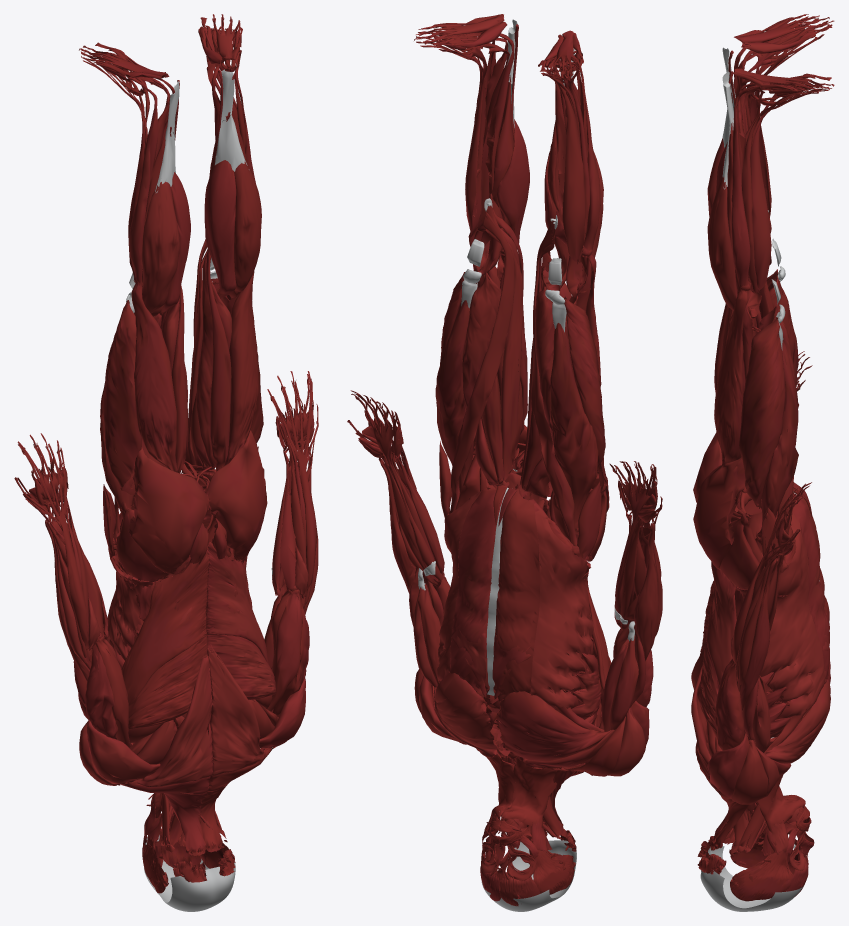
File: muscular.glb
3 views of the same model, side by side, from view 1: azimuth 30°, elevation 25°; view 2: azimuth 150°, elevation 25°; view 3: azimuth 270°, elevation 25° (orthographic). The views are drawn at different scales.
Parts seen in each view (by area): view 1: MOD_latissimus_dorsi_r, FJ1418, MOD_latissimus_dorsi_l, FJ1395, FJ1442, FJ1418M, FJ1520M, FJ1520, FJ1395M, FJ1394, FJ1397M, FJ1436M (+36 smaller); view 2: FJ1452, MOD_rectus_abdominis_r, MOD_rectus_abdominis_l, FJ1433, FJ1464, FJ1434M, FJ1433M, FJ1442, FJ1421M, FJ1464M, FJ1434, FJ1439 (+53 smaller); view 3: FJ1452M, FJ1442M, FJ1395M, FJ1418M, MOD_latissimus_dorsi_l, FJ1433M, FJ1394M, FJ1439M, MOD_temporalis_l, MOD_rectus_abdominis_l, FJ1410M, FJ1464M (+47 smaller).
Boxes of the visible parts, x1=… form: MOD_latissimus_dorsi_r: x1=114, y1=545, x2=211, y2=739; FJ1418: x1=128, y1=447, x2=209, y2=574; MOD_latissimus_dorsi_l: x1=206, y1=541, x2=276, y2=699; FJ1395: x1=131, y1=277, x2=177, y2=472; FJ1442: x1=103, y1=300, x2=141, y2=494; FJ1418M: x1=205, y1=430, x2=267, y2=559; FJ1520M: x1=207, y1=644, x2=268, y2=775; FJ1520: x1=128, y1=655, x2=212, y2=787; FJ1395M: x1=224, y1=271, x2=259, y2=465; FJ1394: x1=141, y1=181, x2=179, y2=313; FJ1397M: x1=204, y1=160, x2=236, y2=298; FJ1436M: x1=206, y1=249, x2=231, y2=471; FJ1452: x1=530, y1=502, x2=593, y2=709; MOD_rectus_abdominis_r: x1=493, y1=484, x2=539, y2=701; MOD_rectus_abdominis_l: x1=450, y1=482, x2=509, y2=697; FJ1433: x1=550, y1=323, x2=598, y2=531; FJ1464: x1=496, y1=691, x2=611, y2=761; FJ1434M: x1=448, y1=205, x2=514, y2=513; FJ1433M: x1=435, y1=300, x2=473, y2=493; FJ1442: x1=564, y1=296, x2=605, y2=468; FJ1421M: x1=485, y1=229, x2=522, y2=480; FJ1464M: x1=433, y1=673, x2=500, y2=750; FJ1434: x1=531, y1=221, x2=577, y2=546; FJ1439: x1=546, y1=67, x2=585, y2=261; FJ1452M: x1=735, y1=511, x2=825, y2=719; FJ1442M: x1=739, y1=317, x2=785, y2=508; FJ1395M: x1=714, y1=284, x2=750, y2=464; FJ1418M: x1=693, y1=457, x2=745, y2=569; MOD_latissimus_dorsi_l: x1=697, y1=561, x2=736, y2=731; FJ1433M: x1=756, y1=340, x2=798, y2=545; FJ1394M: x1=707, y1=177, x2=752, y2=323; FJ1439M: x1=750, y1=93, x2=780, y2=289; MOD_temporalis_l: x1=730, y1=848, x2=792, y2=901; MOD_rectus_abdominis_l: x1=792, y1=493, x2=829, y2=681; FJ1410M: x1=731, y1=85, x2=763, y2=287; FJ1464M: x1=765, y1=679, x2=830, y2=763.
Bounding box in the file's own units: 639 × 1710 × 259.
